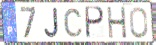7: (19, 6, 38, 40)
C: (63, 7, 84, 38)
H: (106, 6, 128, 40)
J: (43, 7, 60, 39)
O: (129, 6, 149, 39)
P: (85, 6, 106, 41)
